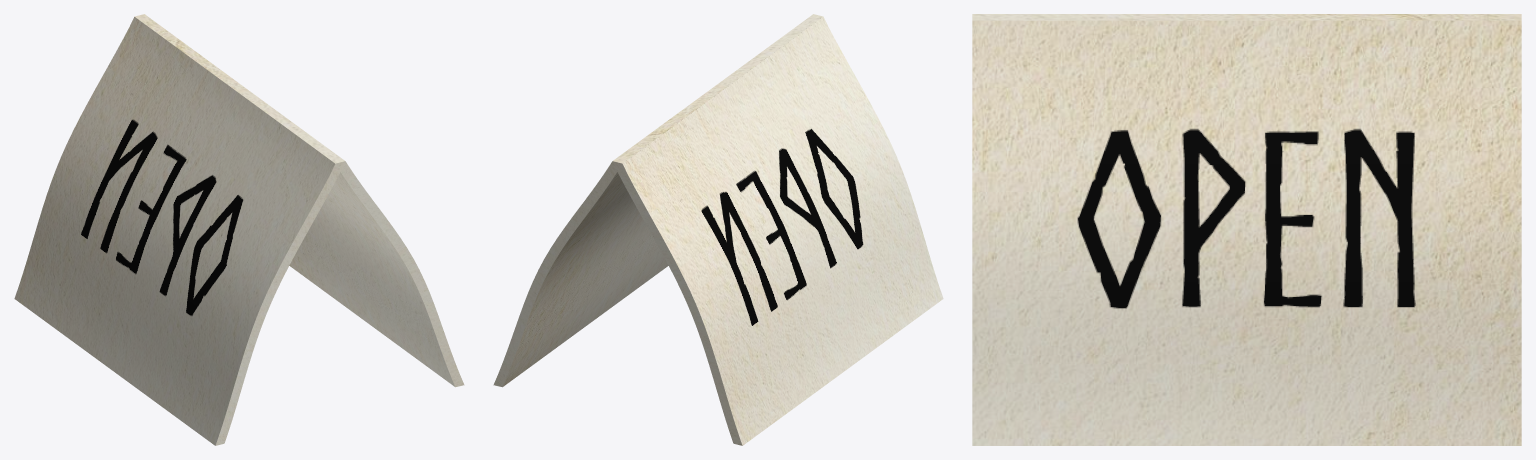
The model's file is Open sign.fbx.
The picture shows the model from 3 angles, left to right: view 1: azimuth 30°, elevation 25°; view 2: azimuth 150°, elevation 25°; view 3: azimuth 270°, elevation 25°; orthographic projection. The views are drawn at different scales.
Visible parts, largest first — view 1: Cube; view 2: Cube; view 3: Cube.
Boxes of the visible parts, x1,y1,x2,y2 form: Cube: (14,14,464,445); Cube: (493,14,943,445); Cube: (972,14,1521,445).
Bounding box in the file's own units: 207 × 201 × 289.
